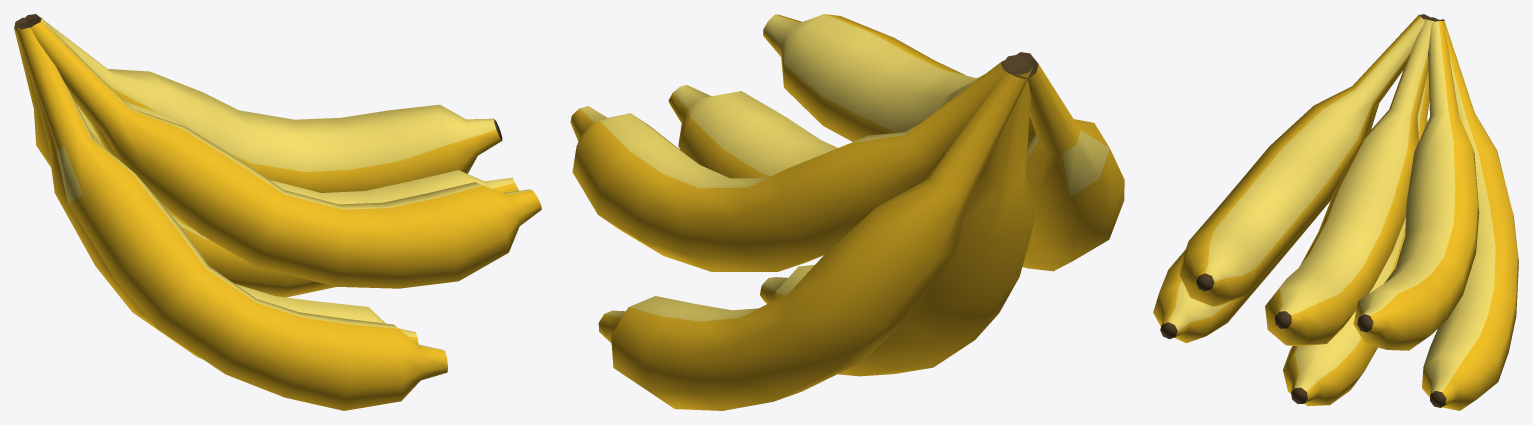
3 views of the same model, side by side, from view 1: azimuth 30°, elevation 25°; view 2: azimuth 150°, elevation 25°; view 3: azimuth 270°, elevation 25° (orthographic). The views are drawn at different scales.
Visible parts, largest first — view 1: Object_45.001; view 2: Object_45.001; view 3: Object_45.001.
Part boxes in pixels (box(x1,y1,x2,y2)): Object_45.001: box(14, 14, 541, 410); Object_45.001: box(570, 14, 1124, 410); Object_45.001: box(1153, 14, 1518, 410).
Size of the model in its own units: 371 by 297 by 334.
